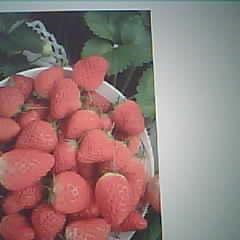straw-ripe: (0, 150, 54, 192), (97, 174, 129, 225)
